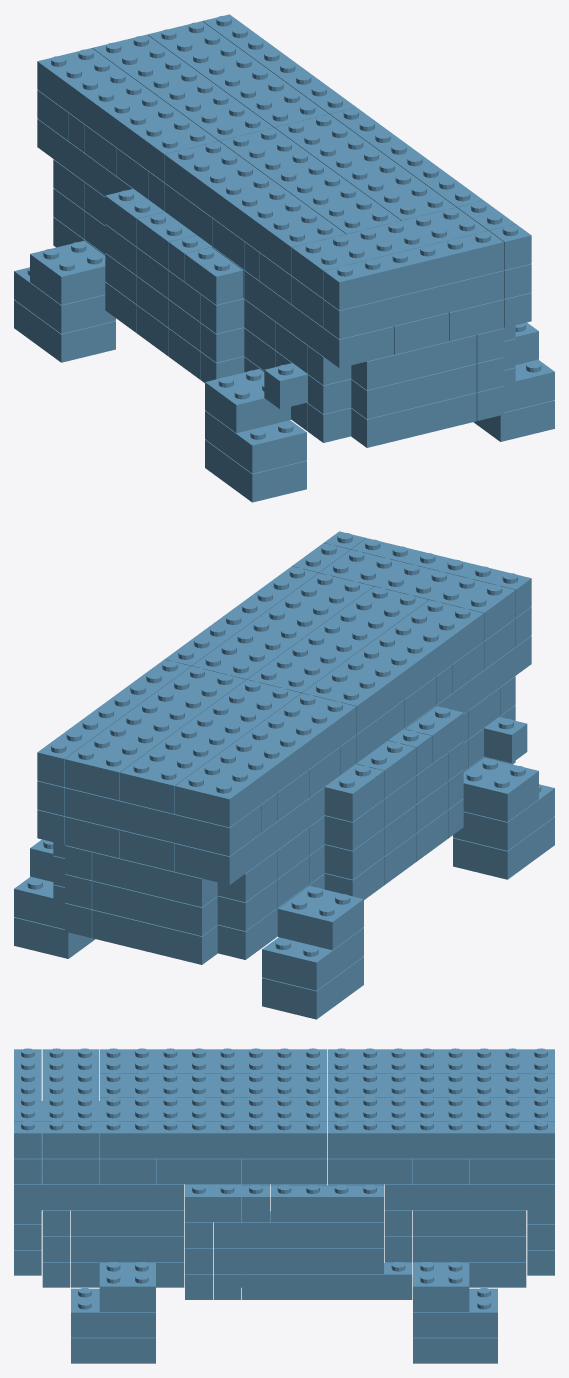
The model's file is collab_bus-L3-C1_raw.glb.
3 views of the same model, one above another, from view 1: azimuth 30°, elevation 25°; view 2: azimuth 150°, elevation 25°; view 3: azimuth 270°, elevation 25° (orthographic). The views are drawn at different scales.
Size of the model in its own units: 10.98 by 8.13 by 18.98.
